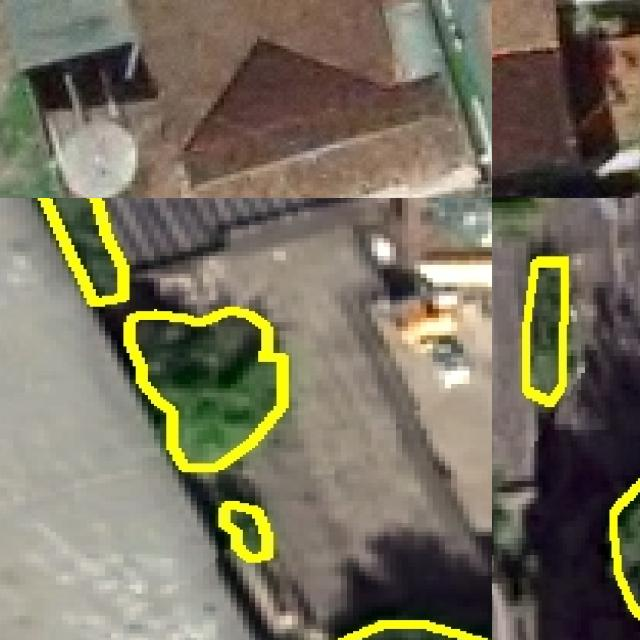trees: (127, 310, 287, 469), (41, 199, 124, 303), (525, 260, 566, 402), (222, 504, 268, 559)
